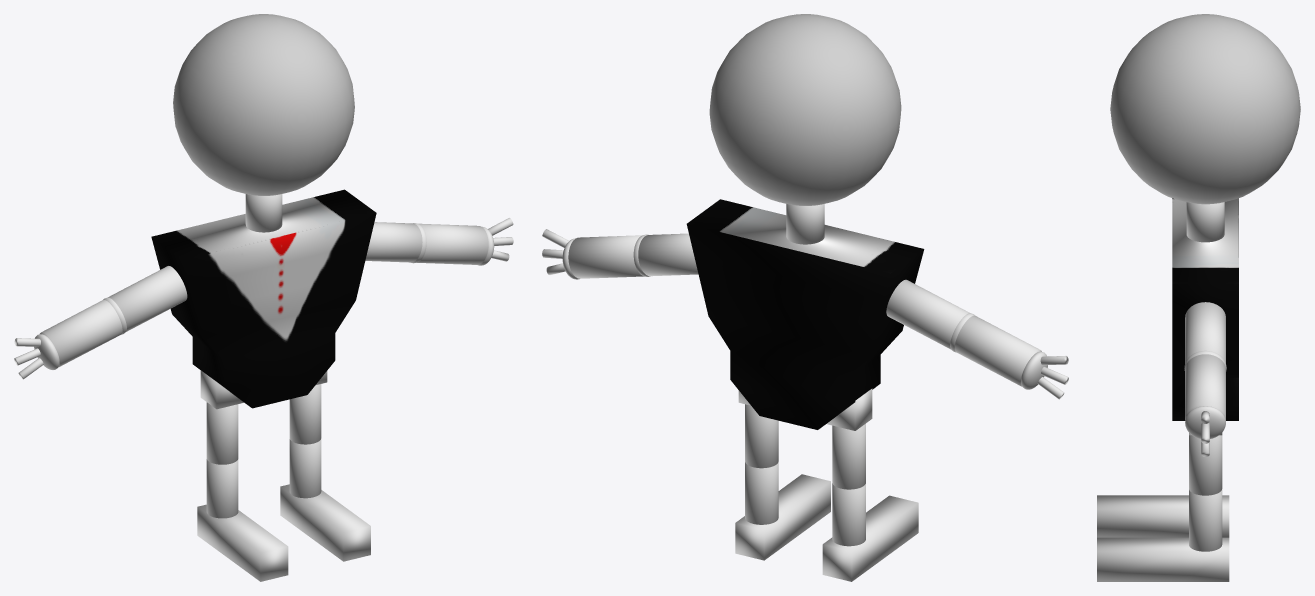
File: SuitedPlayer.fbx
The picture shows the model from 3 angles, left to right: view 1: azimuth 30°, elevation 25°; view 2: azimuth 150°, elevation 25°; view 3: azimuth 270°, elevation 25°; orthographic projection. The views are drawn at different scales.
Parts seen in each view (by area): view 1: Torso, Head, Feet, UpperArms, LowerArms, LowerLeg, UpperLeg, Neck, Hips, Hands; view 2: Torso, Head, Feet, UpperArms, LowerArms, LowerLeg, UpperLeg, Neck, Hips, Hands; view 3: Head, Feet, Torso, UpperArms, LowerArms, LowerLeg, UpperLeg, Neck, Hands.
Part boxes in pixels (x1=…): Torso: x1=151, y1=189, x2=376, y2=408; Head: x1=173, y1=14, x2=354, y2=195; Feet: x1=197, y1=484, x2=370, y2=581; UpperArms: x1=40, y1=223, x2=488, y2=367; LowerArms: x1=108, y1=222, x2=422, y2=331; LowerLeg: x1=206, y1=439, x2=321, y2=518; UpperLeg: x1=206, y1=384, x2=321, y2=464; Neck: x1=245, y1=194, x2=282, y2=232; Hips: x1=200, y1=370, x2=327, y2=409; Hands: x1=34, y1=226, x2=494, y2=369; Torso: x1=686, y1=199, x2=924, y2=429; Head: x1=709, y1=14, x2=901, y2=205; Feet: x1=735, y1=474, x2=918, y2=581; UpperArms: x1=568, y1=235, x2=1041, y2=386; LowerArms: x1=638, y1=233, x2=969, y2=349; LowerLeg: x1=745, y1=462, x2=865, y2=546; UpperLeg: x1=745, y1=404, x2=865, y2=489; Neck: x1=786, y1=204, x2=824, y2=244; Hips: x1=738, y1=388, x2=872, y2=430; Hands: x1=562, y1=238, x2=1047, y2=389; Head: x1=1110, y1=14, x2=1300, y2=204; Feet: x1=1097, y1=495, x2=1229, y2=581; Torso: x1=1172, y1=198, x2=1238, y2=420; UpperArms: x1=1185, y1=354, x2=1225, y2=420; LowerArms: x1=1185, y1=302, x2=1225, y2=363; LowerLeg: x1=1189, y1=489, x2=1222, y2=551; UpperLeg: x1=1189, y1=435, x2=1222, y2=495; Neck: x1=1186, y1=202, x2=1224, y2=242; Hands: x1=1185, y1=406, x2=1225, y2=438.
Bounding box in the file's own units: 628 × 615 × 214.
